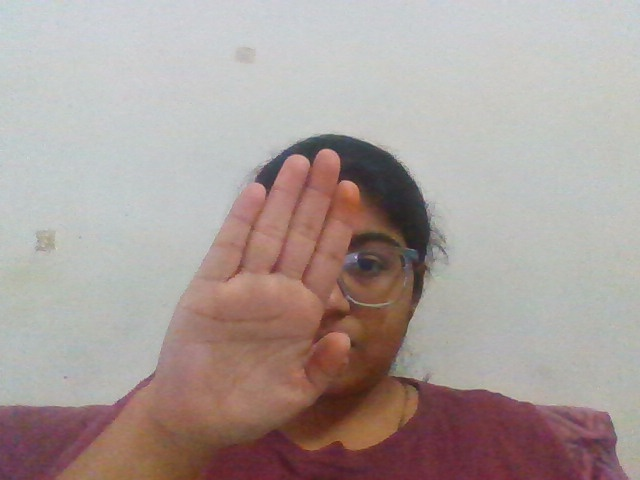Hello: (144, 132, 483, 446)
